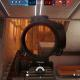Character: (36, 42, 38, 48)
